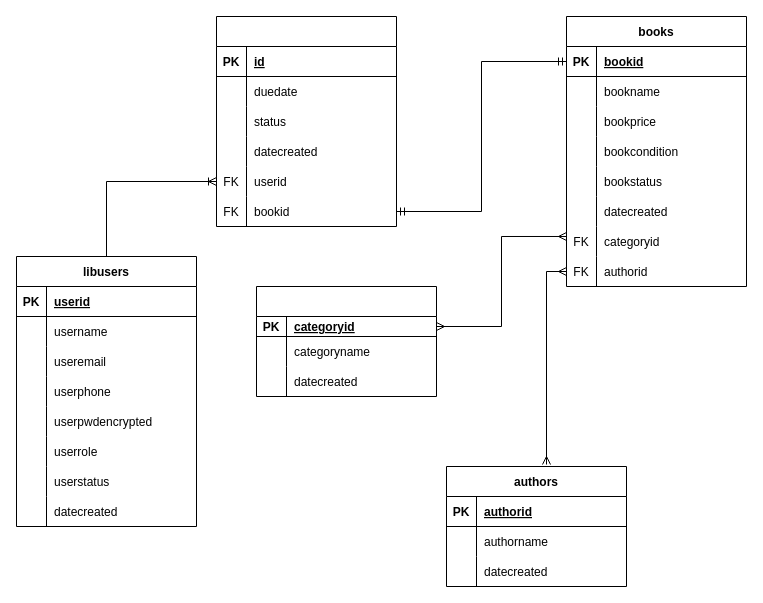
The diagram is 763 pixels wide and 603 high, and some of its shapes have lost their labels. Each missing label, with the box of its shape:
borrowedbooks: (216, 16, 396, 226)
categories: (256, 286, 436, 396)
